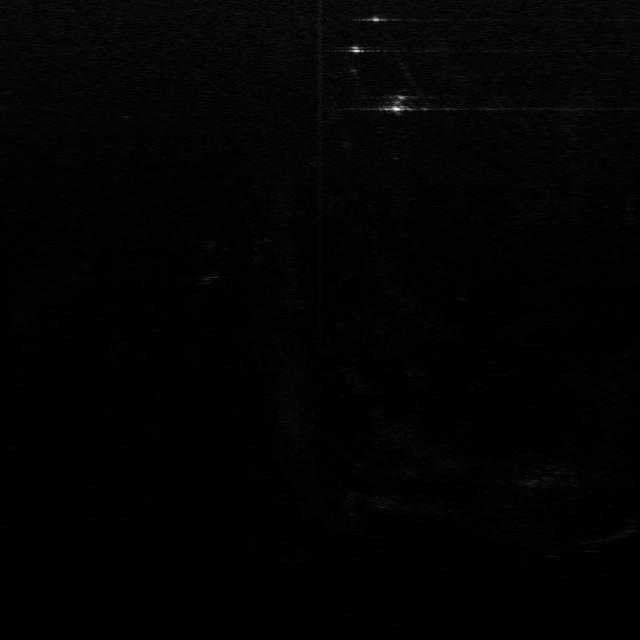rov: (380, 92, 414, 114)
